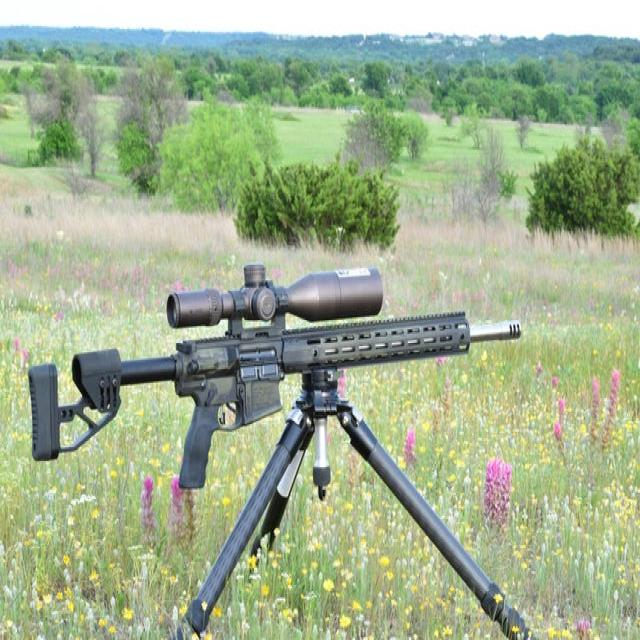Rifle: (30, 265, 522, 493)
